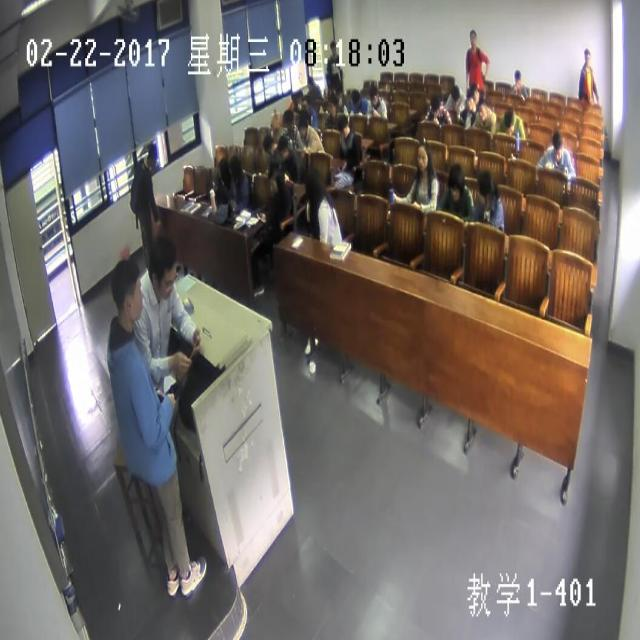person: (111, 259, 142, 322), (148, 240, 176, 298), (447, 162, 464, 199), (476, 173, 493, 209), (305, 172, 322, 205), (335, 112, 353, 140), (267, 164, 282, 197), (551, 128, 562, 162), (415, 142, 427, 172), (217, 157, 229, 185), (297, 110, 309, 137), (229, 154, 240, 182), (262, 134, 274, 156), (430, 88, 441, 112), (277, 136, 288, 158), (146, 142, 156, 166), (504, 108, 514, 132), (326, 94, 338, 114), (468, 81, 478, 102), (367, 84, 377, 102), (283, 108, 292, 127), (450, 82, 460, 99), (350, 88, 360, 104), (477, 99, 485, 119), (466, 93, 475, 110), (514, 70, 521, 86), (469, 28, 475, 45), (329, 39, 336, 53), (583, 46, 589, 62), (307, 75, 314, 88), (290, 90, 297, 102), (296, 87, 302, 98)
